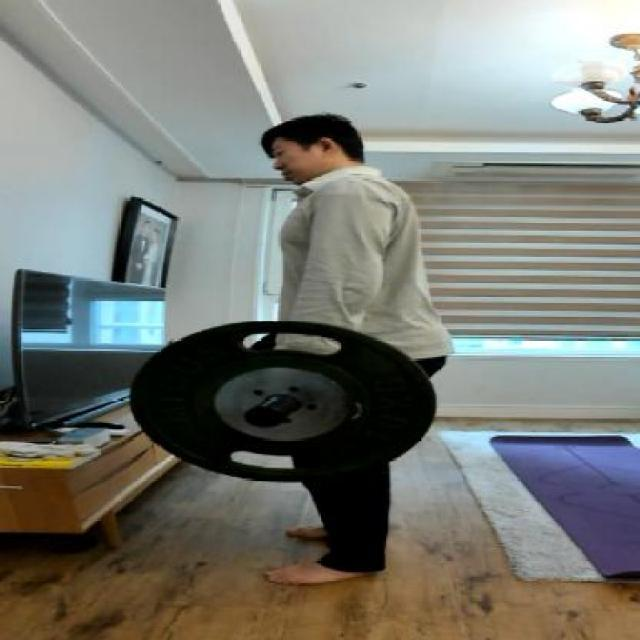Barbell: (232, 401, 298, 434)
